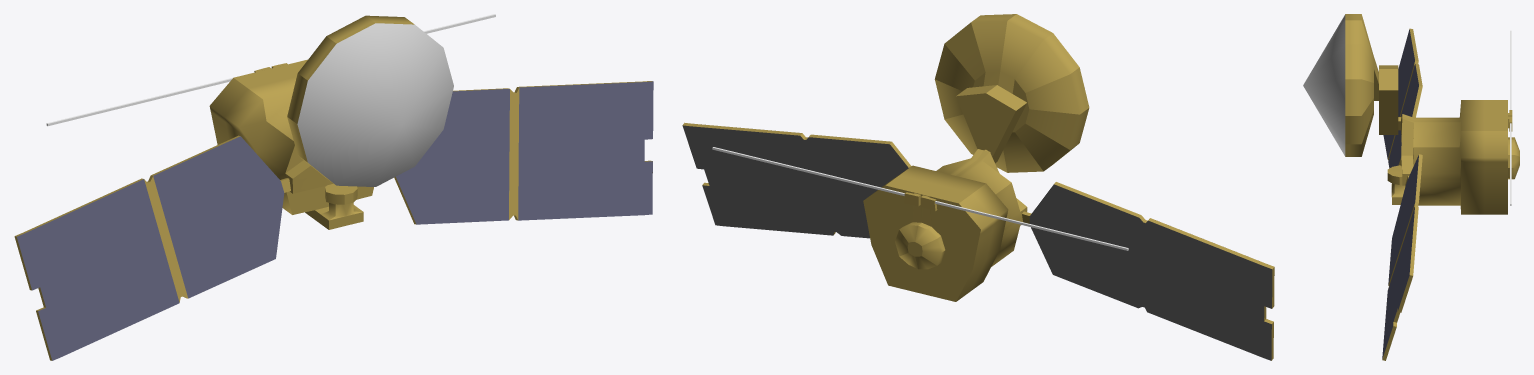
The model's file is Mars Reconnaissance Orbiter (MRO) (B).glb.
3 renders of one model, left to right at view 1: azimuth 30°, elevation 25°; view 2: azimuth 150°, elevation 25°; view 3: azimuth 270°, elevation 25°, orthographic. The views are drawn at different scales.
Visible parts, largest first — view 1: MRO; view 2: MRO; view 3: MRO.
Boxes of the visible parts, x1,y1,x2,y2 form: MRO: (14,14,653,360); MRO: (682,14,1274,360); MRO: (1303,14,1519,360).
Size of the model in its own units: 9.46 by 4.01 by 3.52.
